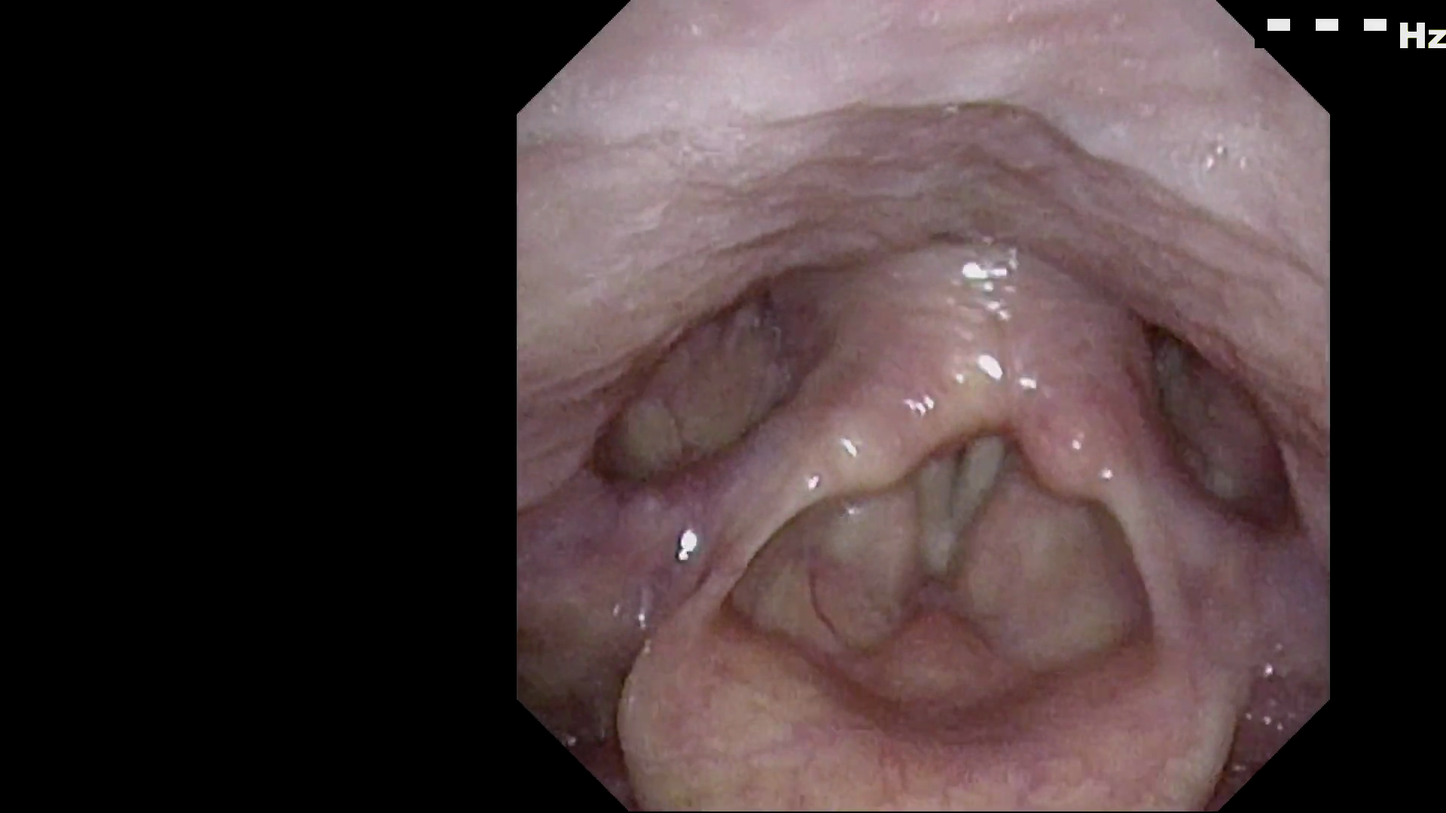epiglottis: (594, 520, 1237, 760)
trachea: (871, 374, 1050, 599)
